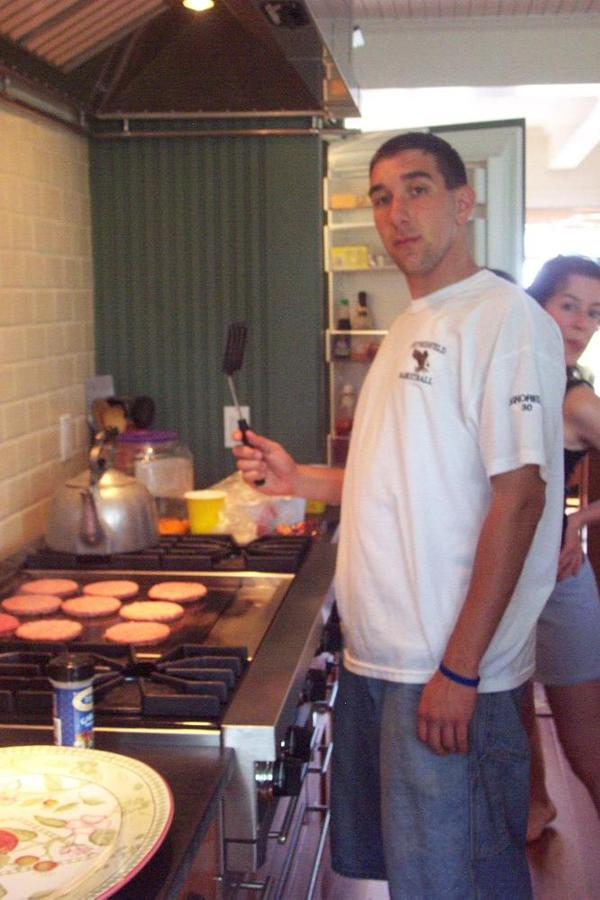person: (233, 133, 571, 900)
